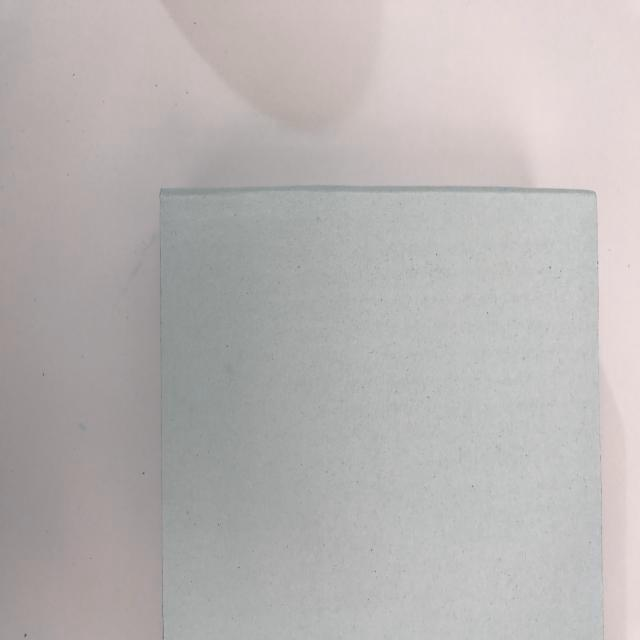cardboard: (153, 178, 611, 640)
